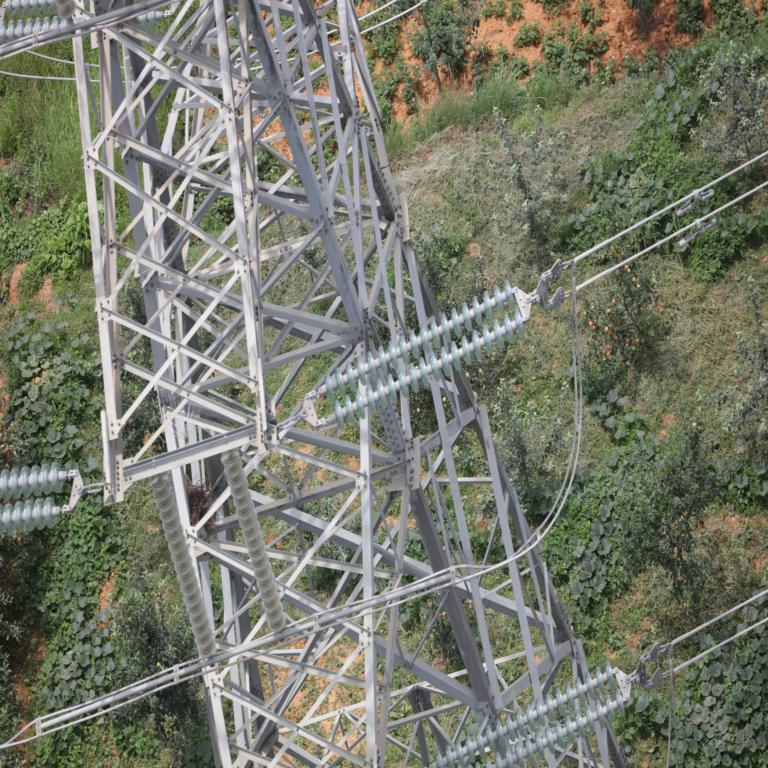nest: (186, 478, 218, 531)
